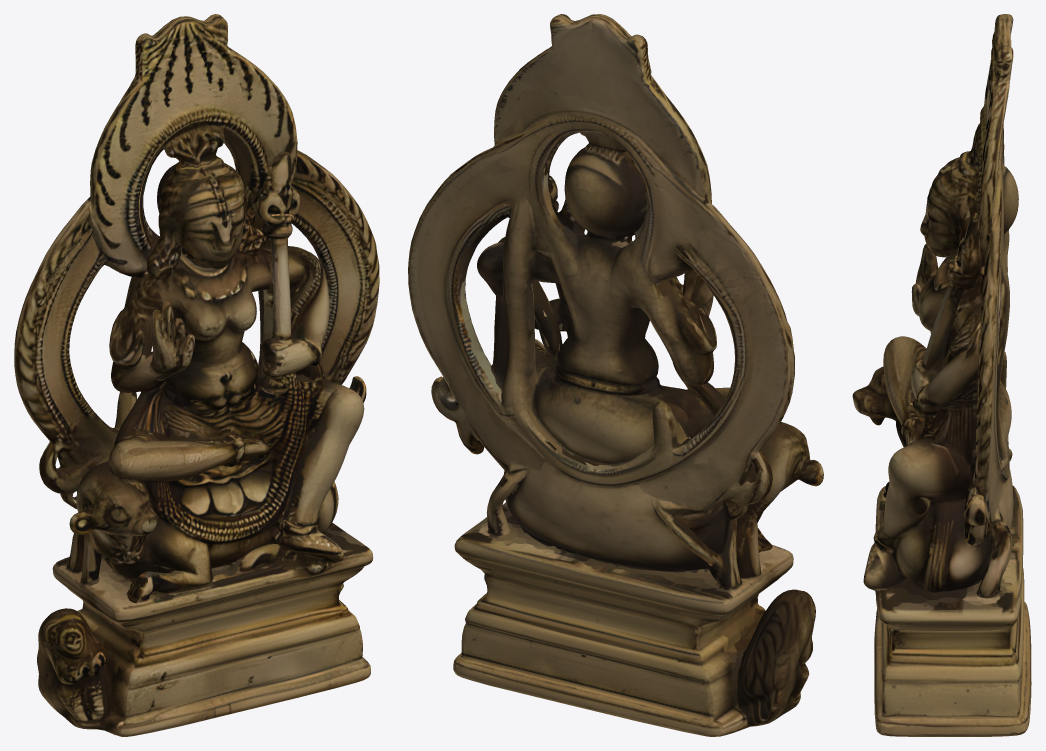
3 renders of one model, left to right at view 1: azimuth 30°, elevation 25°; view 2: azimuth 150°, elevation 25°; view 3: azimuth 270°, elevation 25°, orthographic. The views are drawn at different scales.
Visible parts, largest first — view 1: textured_mesh; view 2: textured_mesh; view 3: textured_mesh.
Part boxes in pixels (x1,y1,x2,y2): textured_mesh: (14,14,379,736); textured_mesh: (408,14,823,736); textured_mesh: (852,14,1031,736).
Size of the model in its own units: 1.17 by 1.99 by 0.4943.
Materials: 1 (1 with a texture image).
